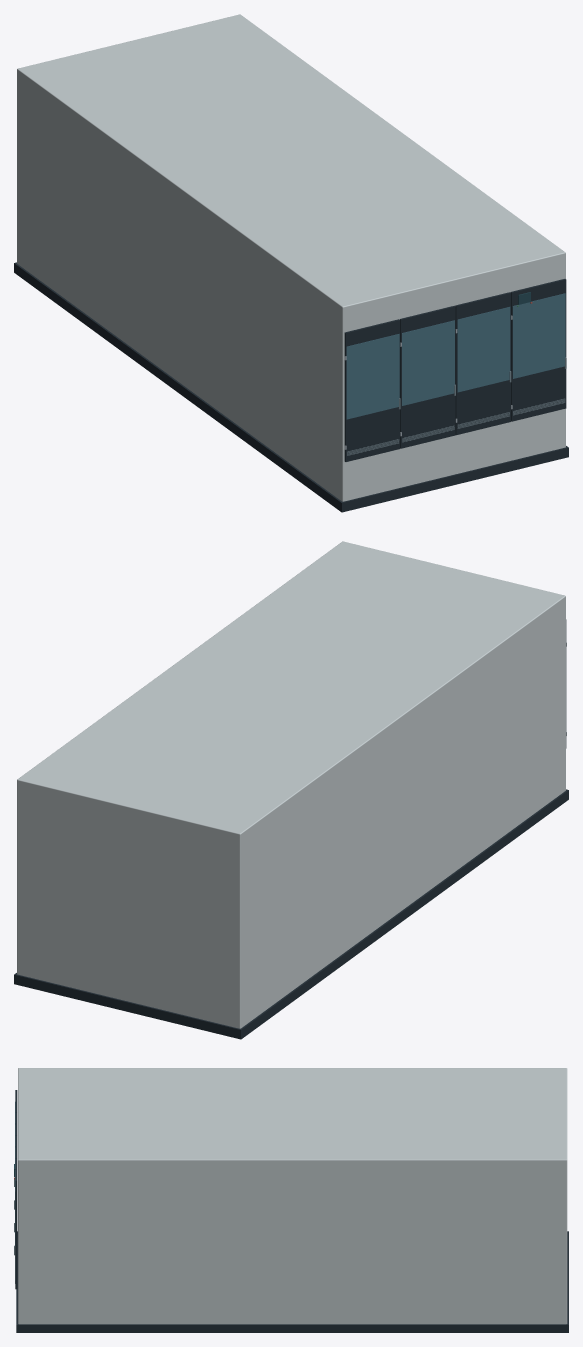
File: lehr.glb
3 views of the same model, one above another, from view 1: azimuth 30°, elevation 25°; view 2: azimuth 150°, elevation 25°; view 3: azimuth 270°, elevation 25° (orthographic). The views are drawn at different scales.
Bounding box in the file's own units: 4 × 3.44 × 10.04.
